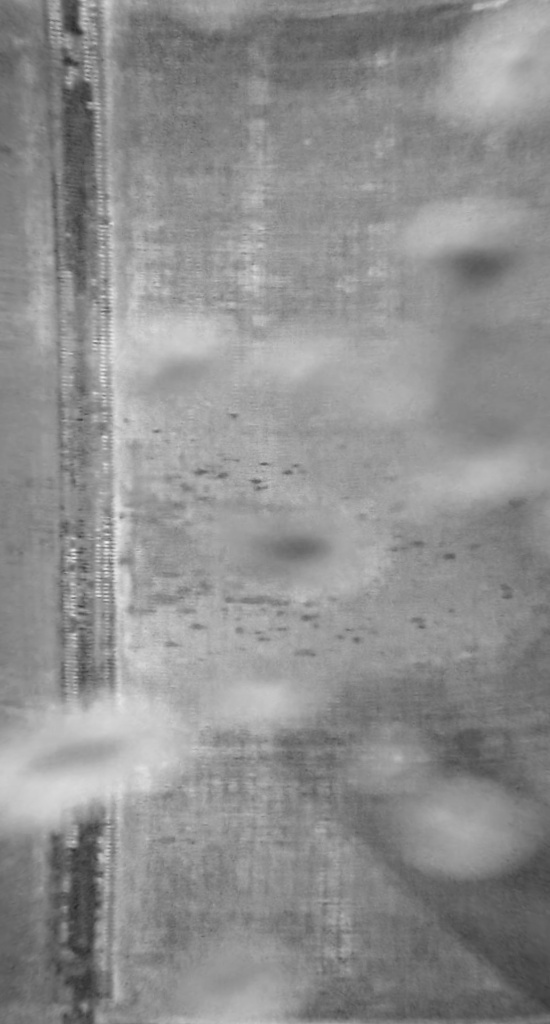splice: (42, 1, 139, 1023)
